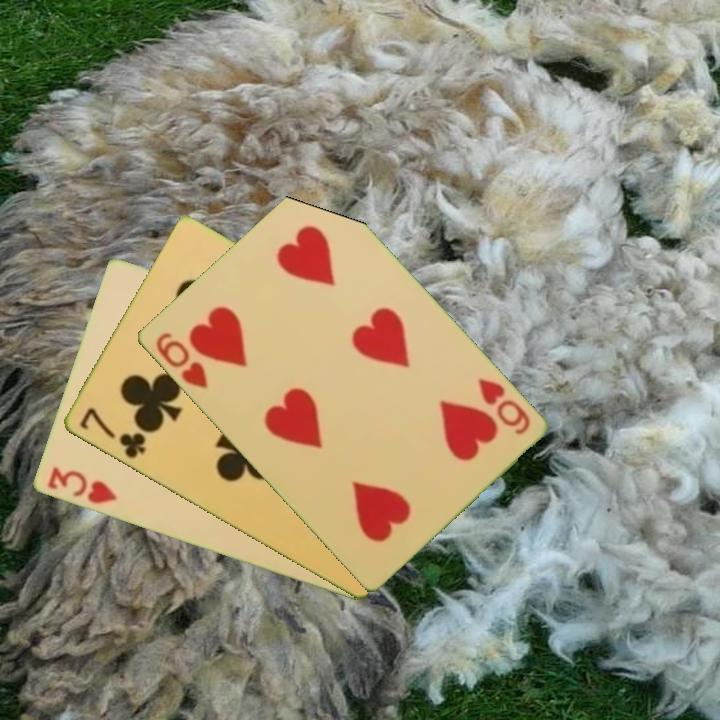3h: (43, 464, 119, 507)
6h: (151, 328, 211, 392), (473, 374, 533, 438)
7c: (75, 404, 148, 462)
